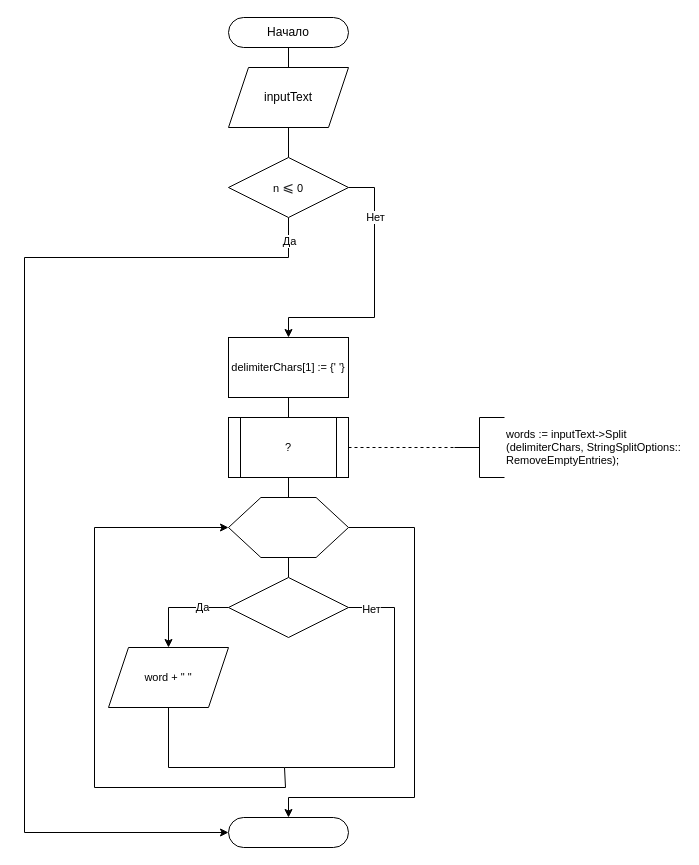
This 699x865 diagram has some shape labels left out. Here are the shapes that lost their labels. From the top down, the centre of each, then its label:
At (288,527): "word : words".
At (288,607): "sizeof(word) = n".
At (288,832): "Конец".
